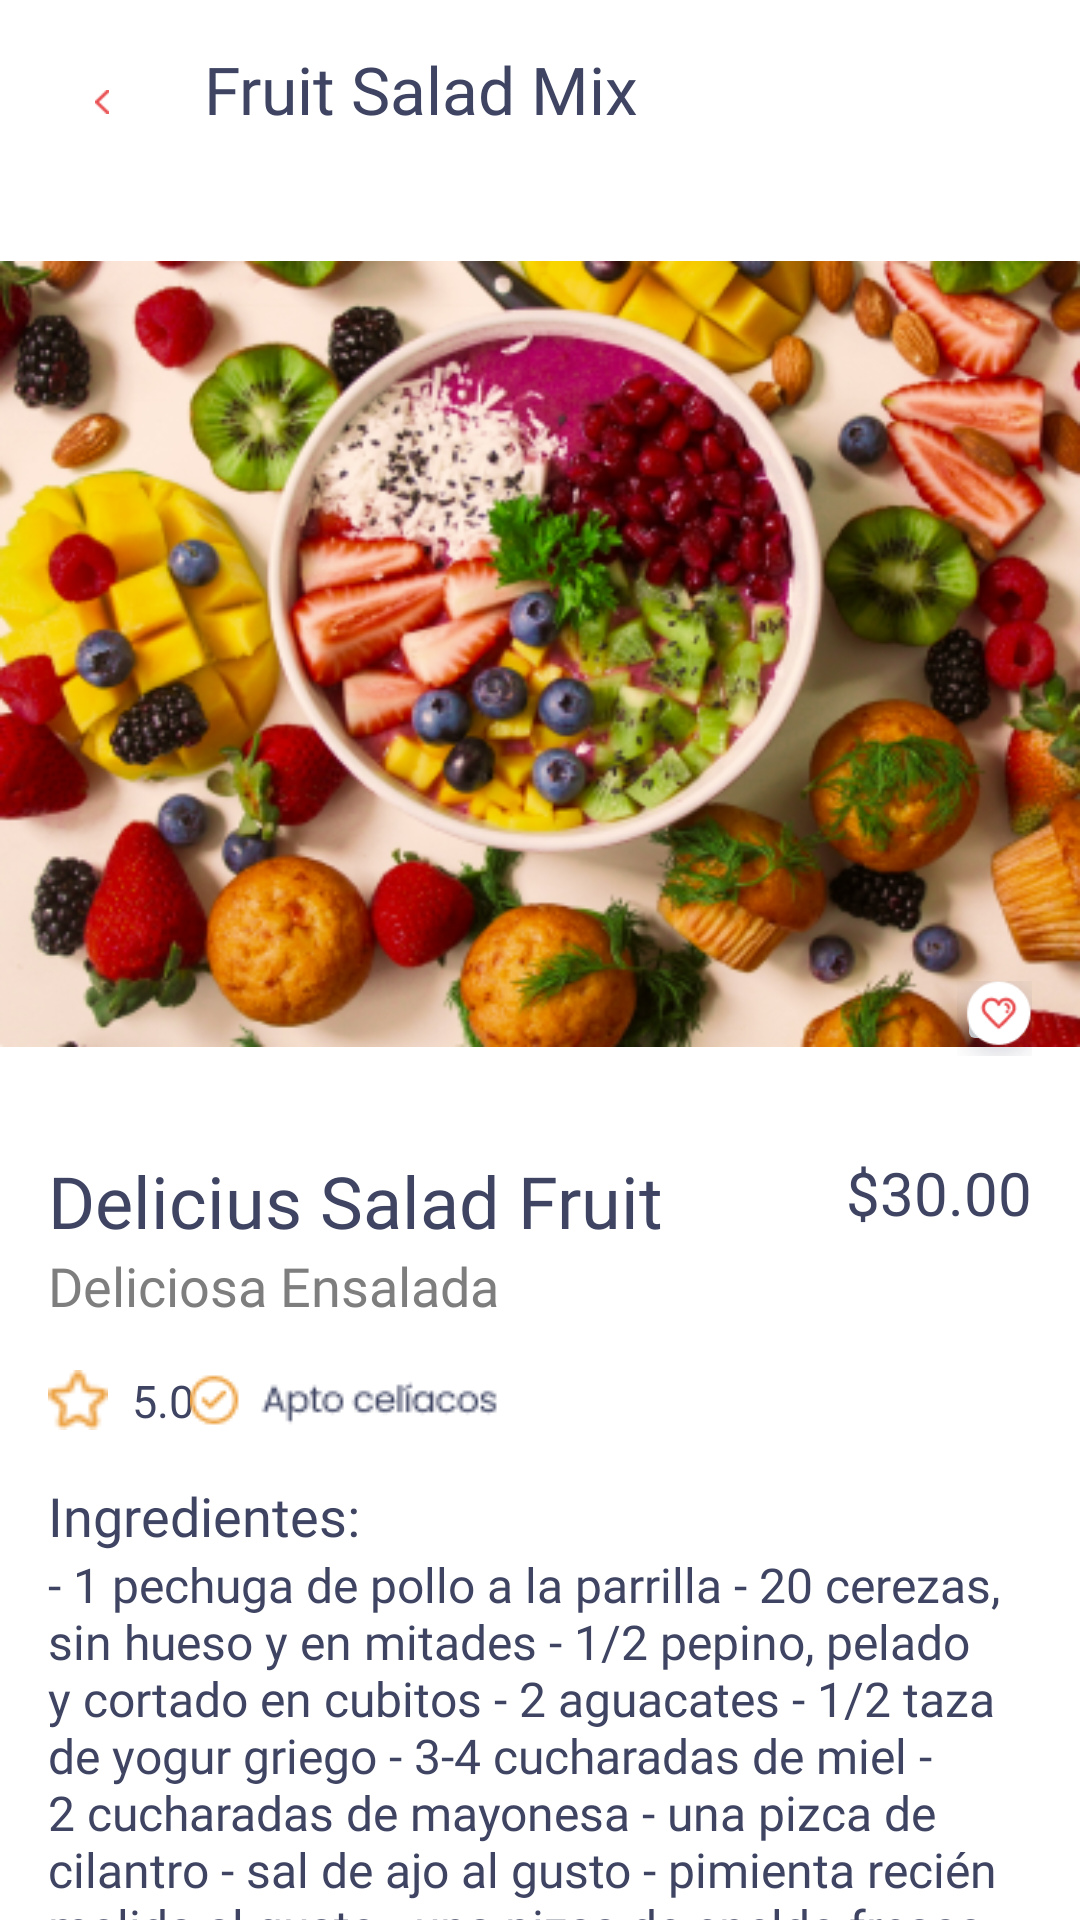

Screen size 1080x1920. Icon name, then its center in pixels as [x,y]:
favorite: [994,1018]
star: [78,1400]
